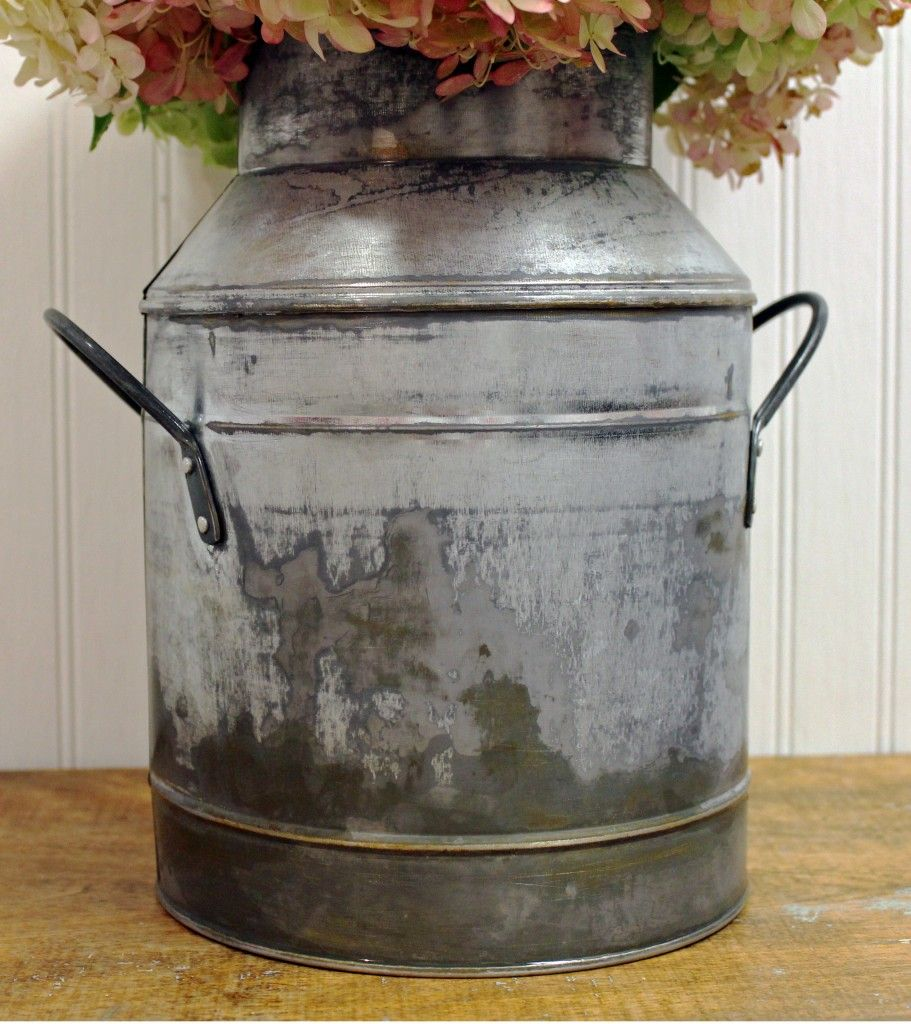metal: (38, 24, 830, 983)
